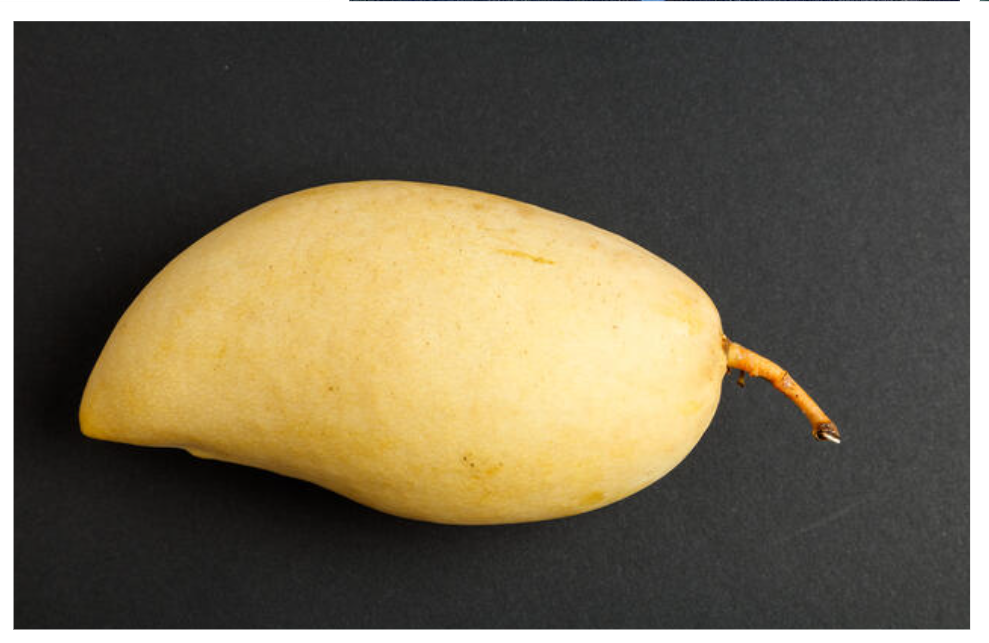mango: (76, 170, 723, 528)
